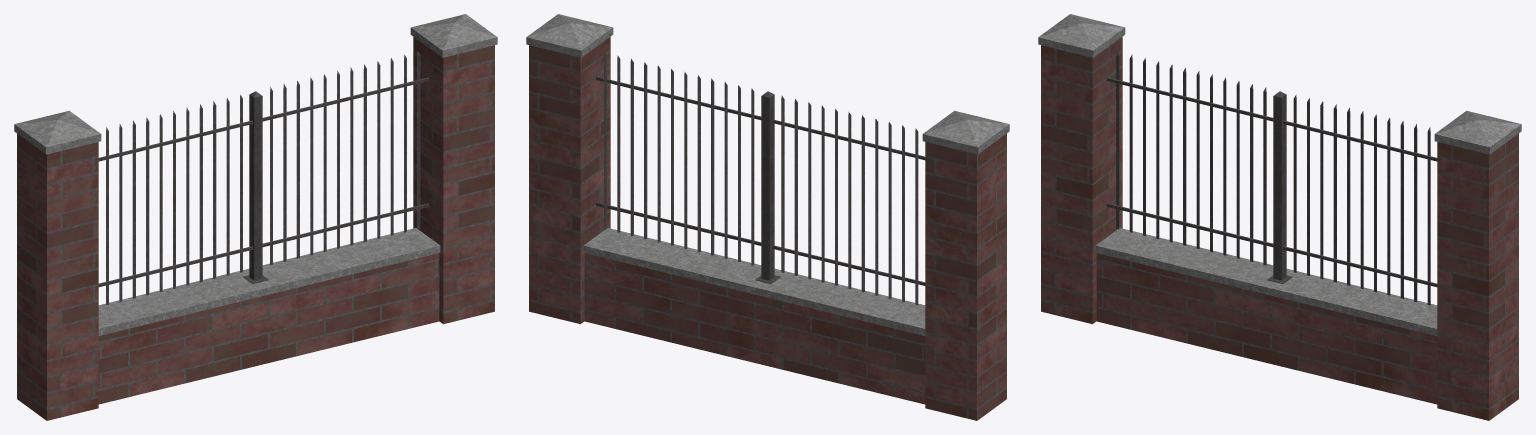
File: simple_bricks_and_steel_fence.glb
The picture shows the model from 3 angles, left to right: view 1: azimuth 30°, elevation 25°; view 2: azimuth 150°, elevation 25°; view 3: azimuth 330°, elevation 25°; orthographic projection.
Parts seen in each view (by area): view 1: Object_2; view 2: Object_2; view 3: Object_2.
Part boxes in pixels (x1,y1,x2,y2): Object_2: (14,14,497,420); Object_2: (526,14,1009,420); Object_2: (1038,14,1521,420).
Size of the model in its own units: 3.27 by 1.97 by 0.3999.
1 material, 1 textured.
